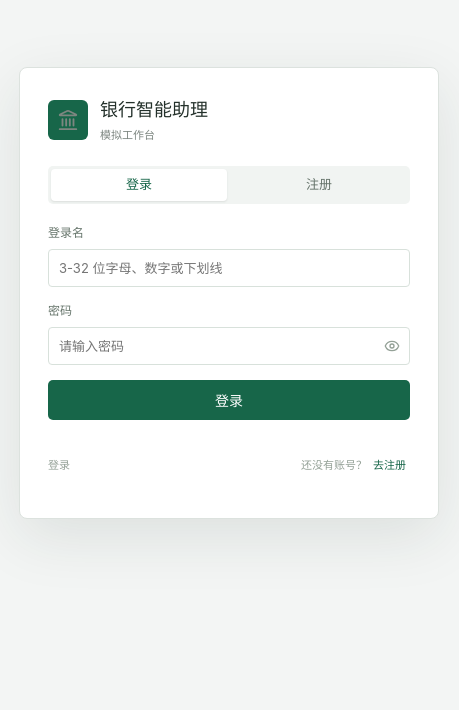
Test: 注册表单 › 两次密码不一致时本地就拦住，不发注册请求
Click the tab "注册": (319, 185) top-left (231, 169), bottom-right (407, 201)
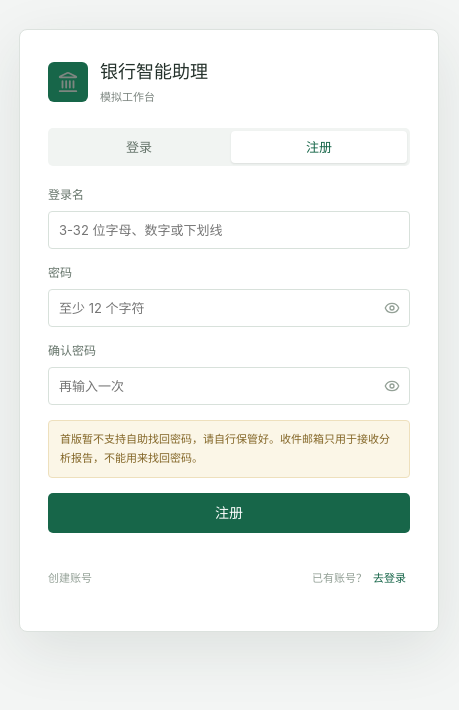
In the field named "login_name": (229, 230) top-left (48, 211), bottom-right (410, 249), type "cghry"
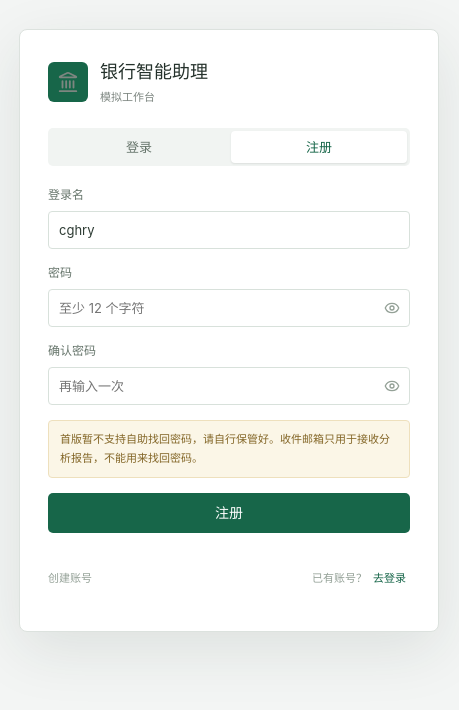
In the password field named "password": (229, 308) top-left (48, 289), bottom-right (410, 327), type "a-long-enough-password"
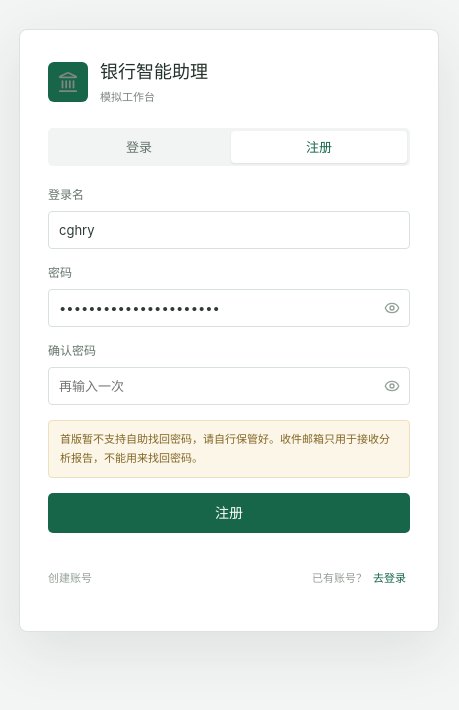
In the password field named "confirm_password": (229, 386) top-left (48, 367), bottom-right (410, 405), type "a-long-enough-password"
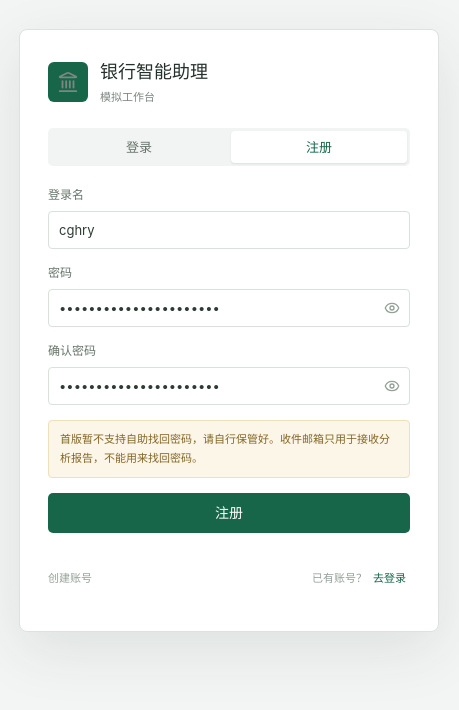
In the password field named "confirm_password": (229, 386) top-left (48, 367), bottom-right (410, 405), type "another-password"
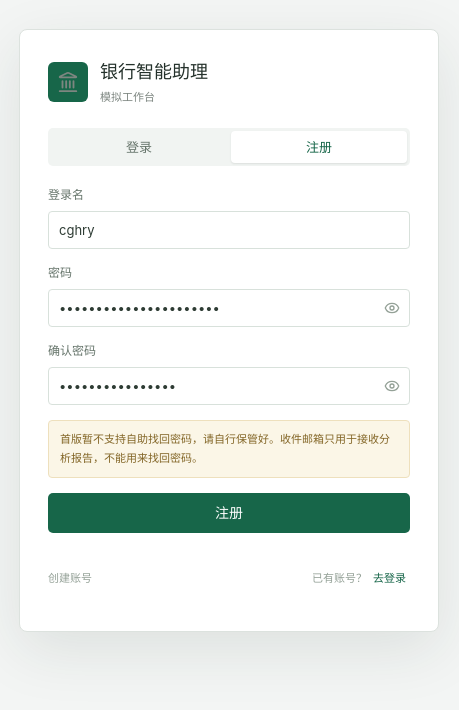
Submit the form, box top-left (48, 186), bottom-right (410, 533)
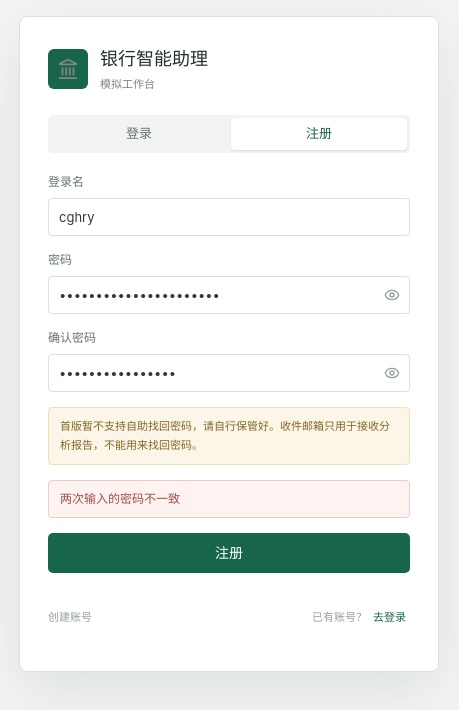
Check: the message with class "error" reads "两次输入的密码不一致", box top-left (60, 490), bottom-right (180, 506)
